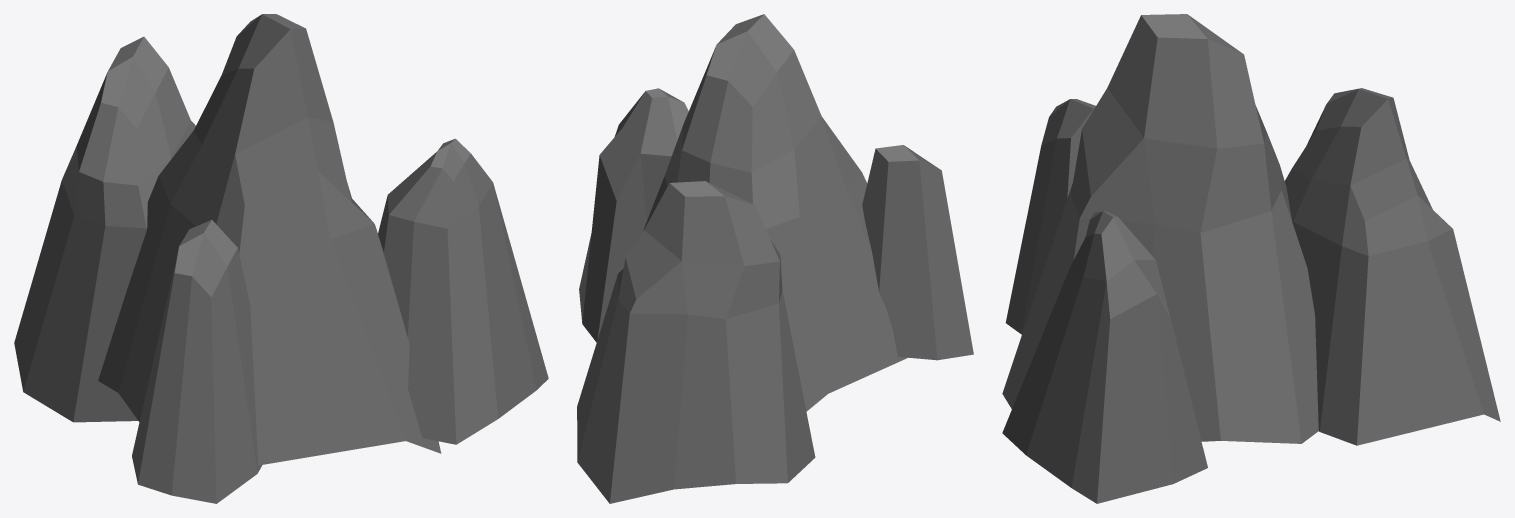
Rendered from M_Rock_Obstacle_0.fbx.
3 views of the same model, side by side, from view 1: azimuth 30°, elevation 25°; view 2: azimuth 150°, elevation 25°; view 3: azimuth 270°, elevation 25° (orthographic). The views are drawn at different scales.
Parts seen in each view (by area): view 1: M_Rock_Obstacle_0; view 2: M_Rock_Obstacle_0; view 3: M_Rock_Obstacle_0.
Boxes of the visible parts, bbox=[...] form: M_Rock_Obstacle_0: bbox=[14, 14, 548, 503]; M_Rock_Obstacle_0: bbox=[577, 14, 973, 503]; M_Rock_Obstacle_0: bbox=[1002, 14, 1500, 503].
Bounding box in the file's own units: 684 × 642 × 706.
